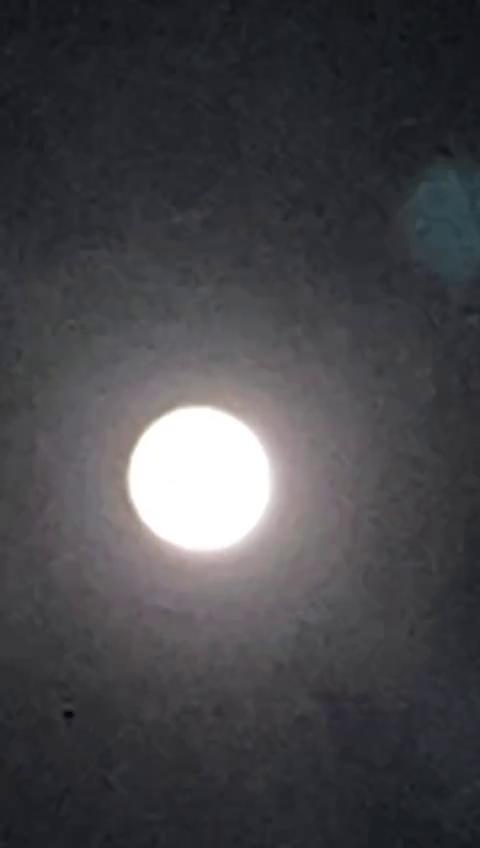moon: (114, 386, 280, 576)
